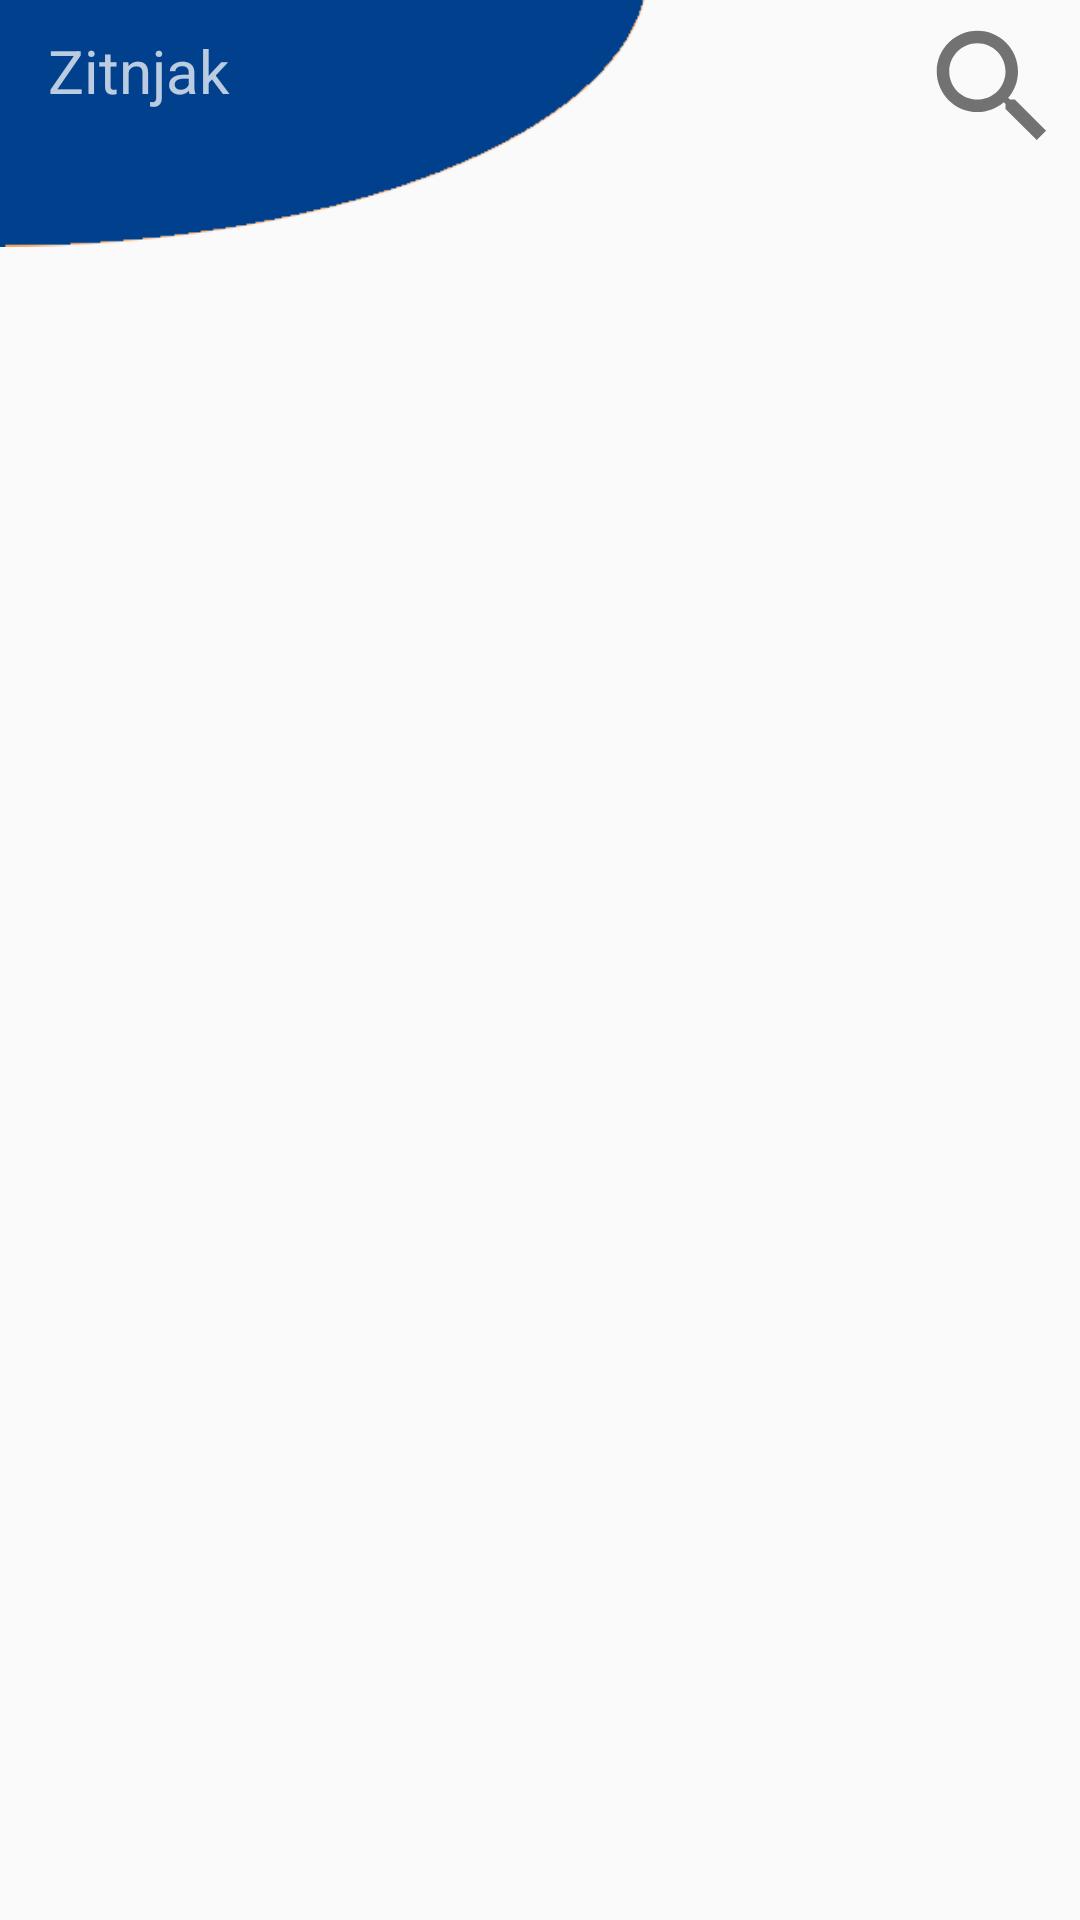

Locate icon controls on the screen. Image size 1080px x 1920px, boxes as Rect(x1, y1, x2, y2).
search: Rect(936, 30, 1046, 140)
